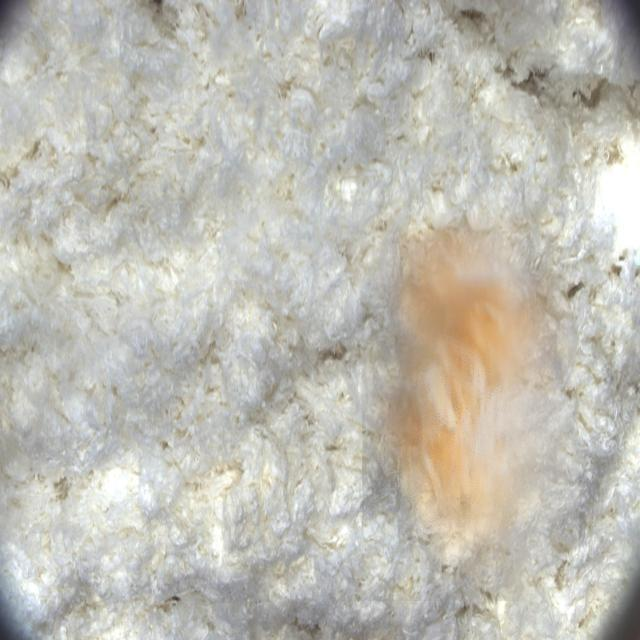dust: (362, 213, 579, 601)
